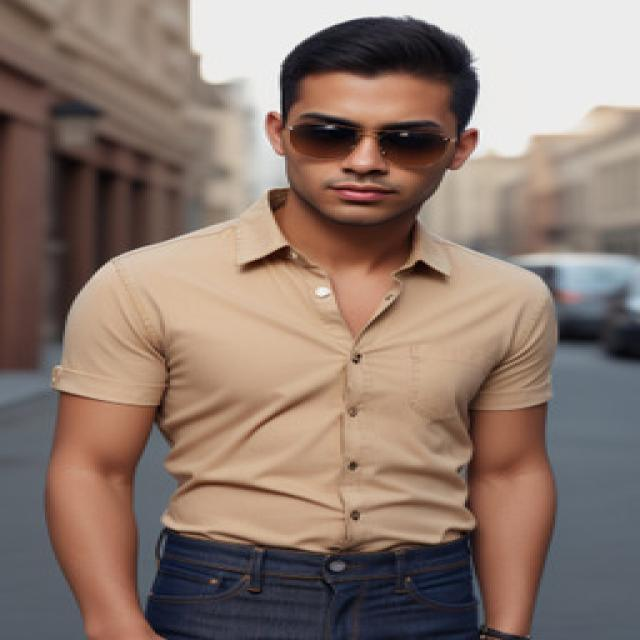Ai human 2: (39, 11, 578, 640)
